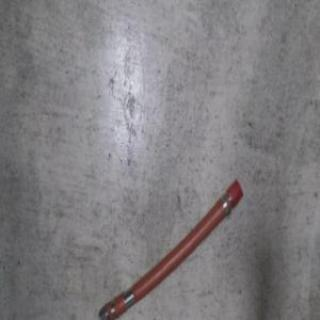Hosetrack_idkeyframe: (96, 173, 244, 319)
